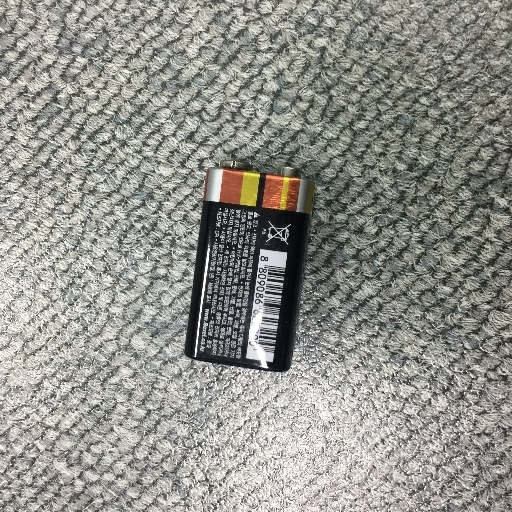Battery_3: (169, 147, 321, 387)
